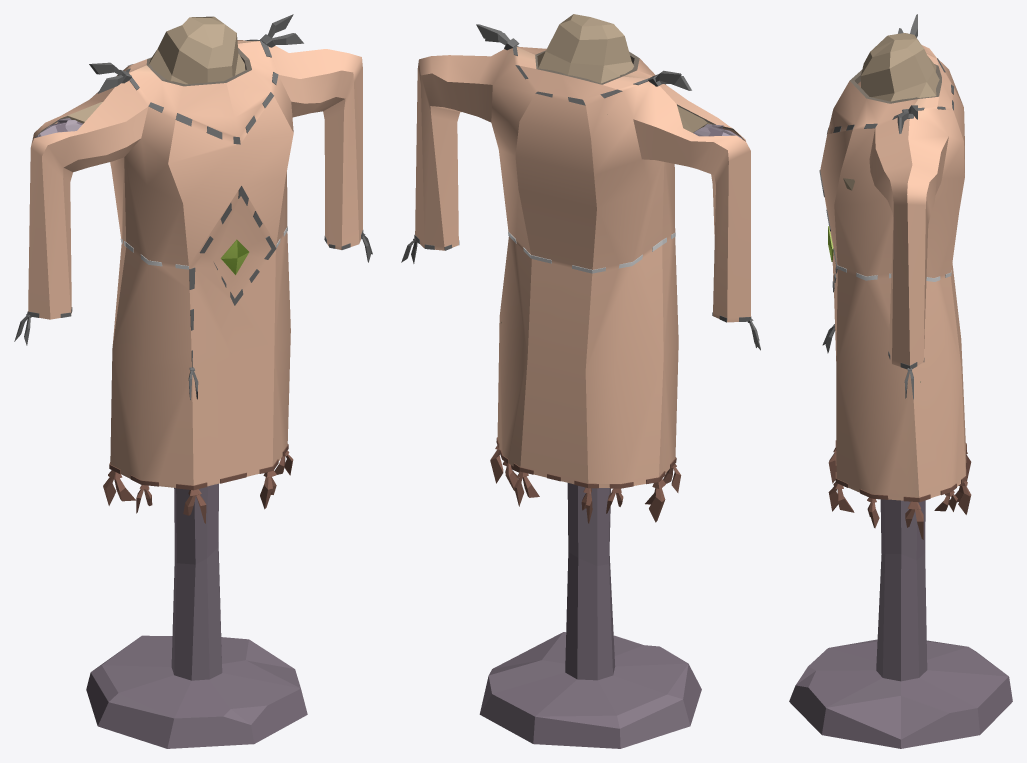
The model's file is SM_Prop_Manequin_01.fbx.
3 renders of one model, left to right at view 1: azimuth 30°, elevation 25°; view 2: azimuth 150°, elevation 25°; view 3: azimuth 270°, elevation 25°, orthographic. The views are drawn at different scales.
Parts seen in each view (by area): view 1: SM_Prop_Manequin_02; view 2: SM_Prop_Manequin_02; view 3: SM_Prop_Manequin_02.
Part boxes in pixels (box(x1,y1,x2,y2)): SM_Prop_Manequin_02: box(14, 14, 372, 748); SM_Prop_Manequin_02: box(401, 14, 760, 748); SM_Prop_Manequin_02: box(789, 14, 1012, 748).
Bounding box in the file's own units: 0.8576 × 1.55 × 0.4752.
1 material, 1 textured.
